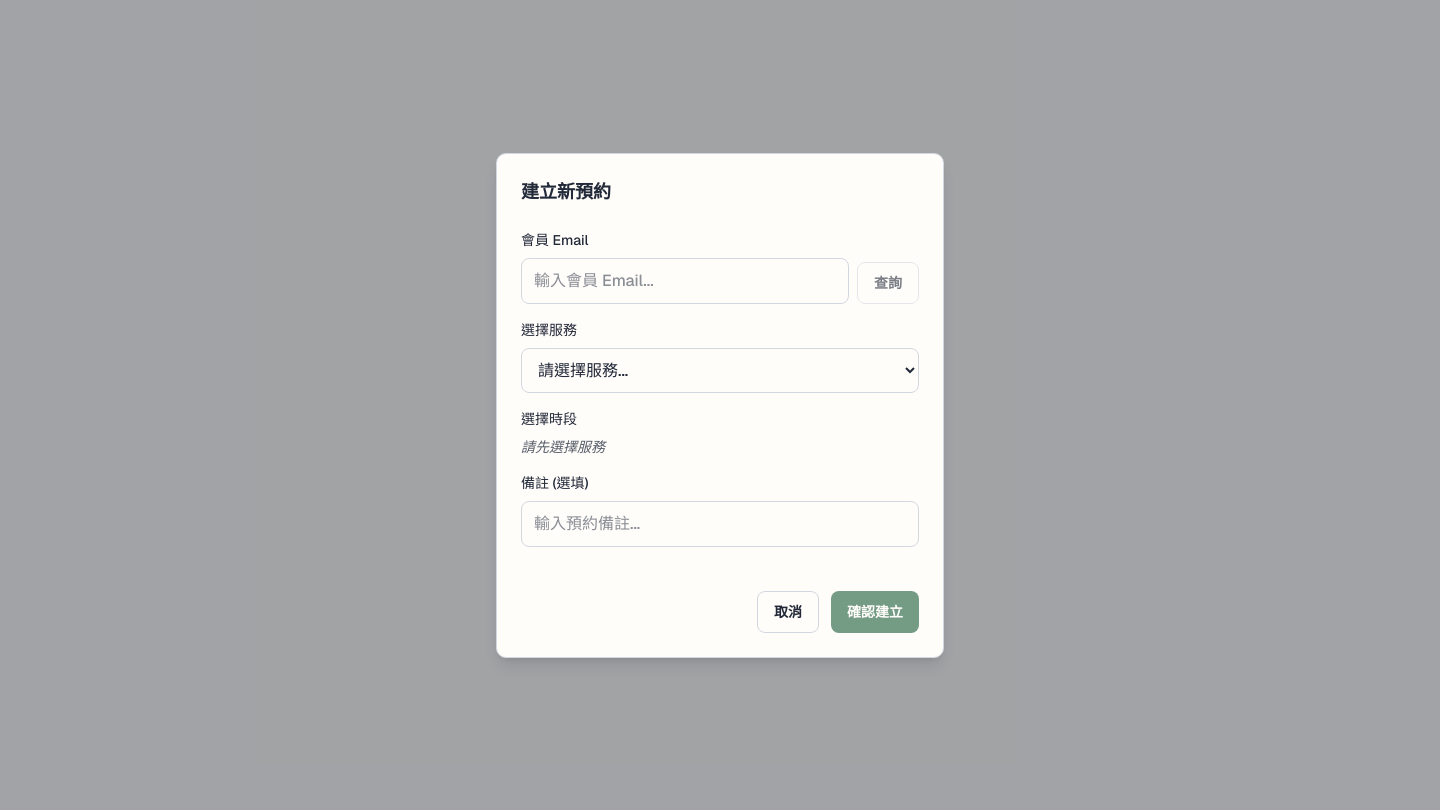
Scenario: CreateBookingDialog › 輸入 Email 並查詢後應顯示會員名稱
Type "test@ex.com" into the field labelled "會員 Email" at (685, 280), box [521,258,849,304]
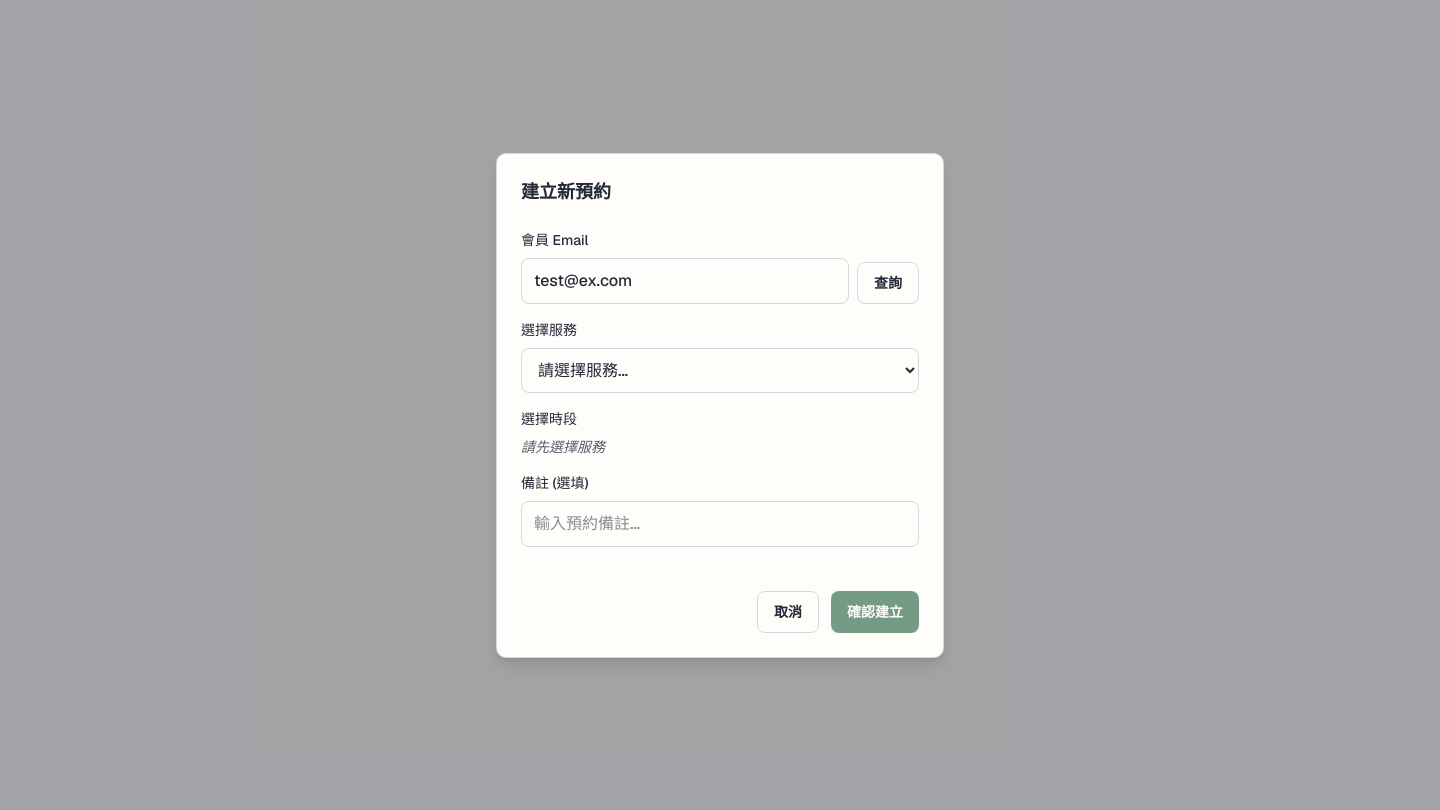
Click the button "查詢" at (888, 282), box [857,262,919,304]
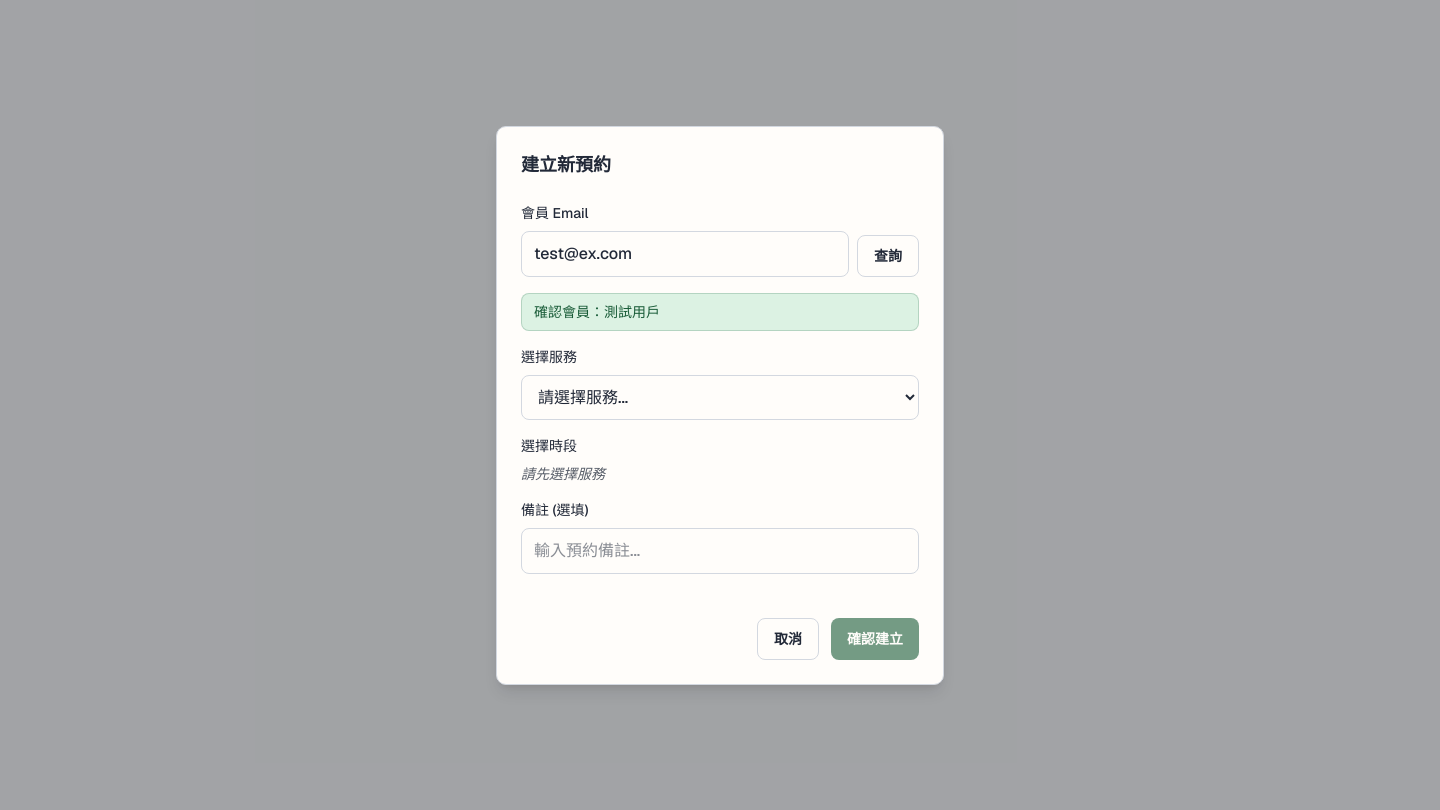
Check: the text "確認會員：測試用戶" is shown, box [521,292,919,330]
